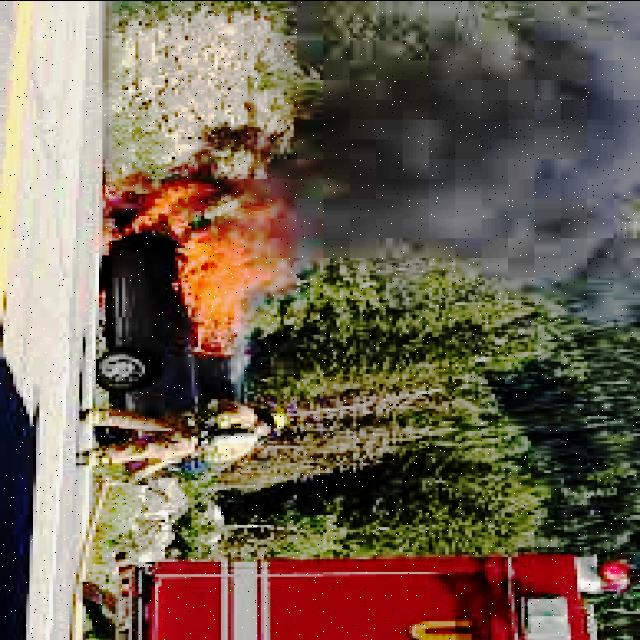api: (104, 154, 292, 364)
